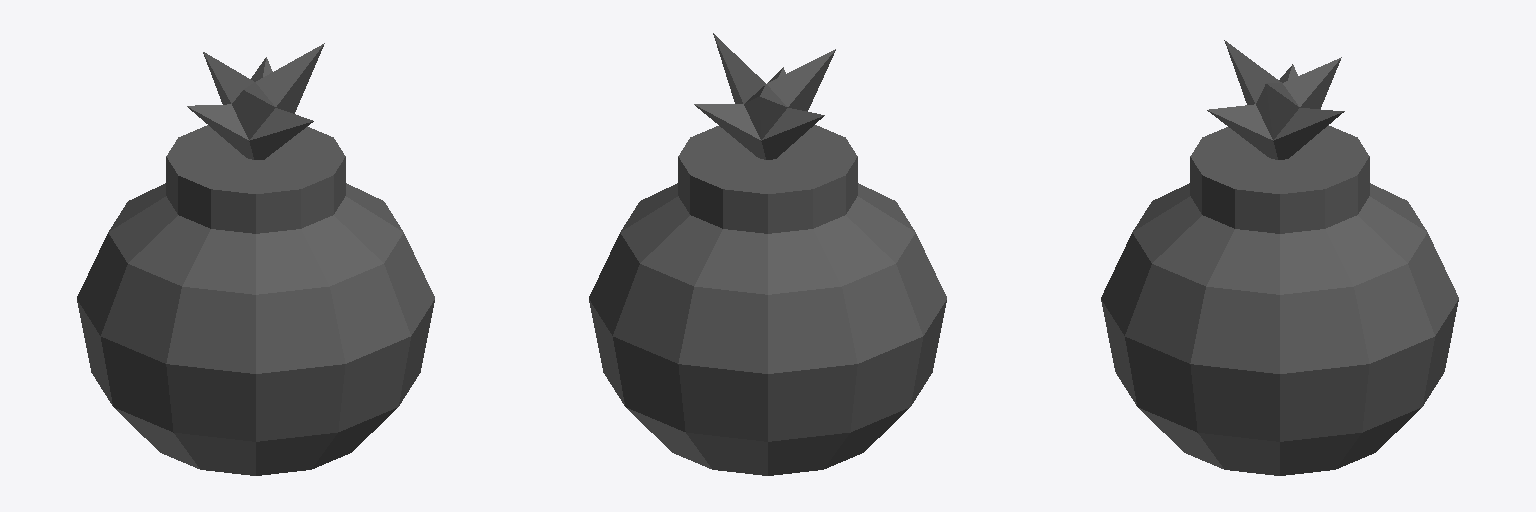
File: LightBomb.obj
3 views of the same model, side by side, from view 1: azimuth 30°, elevation 25°; view 2: azimuth 150°, elevation 25°; view 3: azimuth 270°, elevation 25° (orthographic).
Visible parts, largest first — view 1: Mesh.113_DrawCall_110; view 2: Mesh.113_DrawCall_110; view 3: Mesh.113_DrawCall_110.
Part boxes in pixels (x1,y1,x2,y2): Mesh.113_DrawCall_110: (77,43,434,475); Mesh.113_DrawCall_110: (589,33,946,475); Mesh.113_DrawCall_110: (1101,40,1458,475).
Size of the model in its own units: 0.7739 by 0.9654 by 0.773.